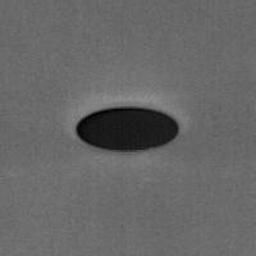Punching: (77, 108, 178, 152)
